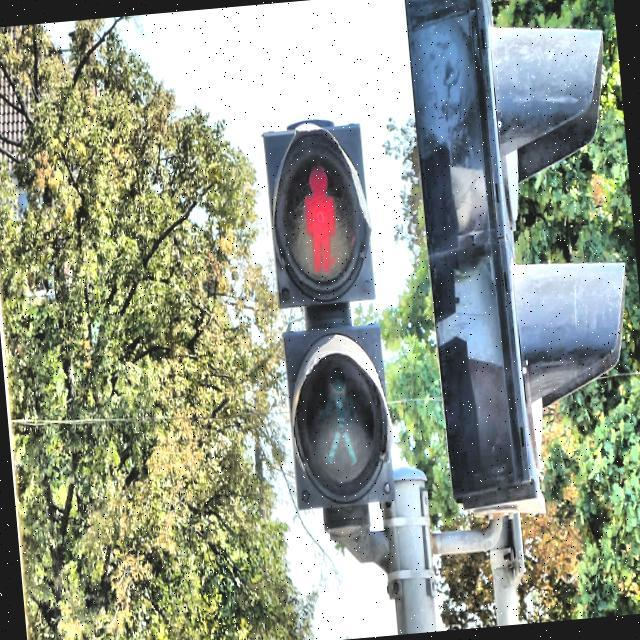red_light: (298, 159, 341, 279)
